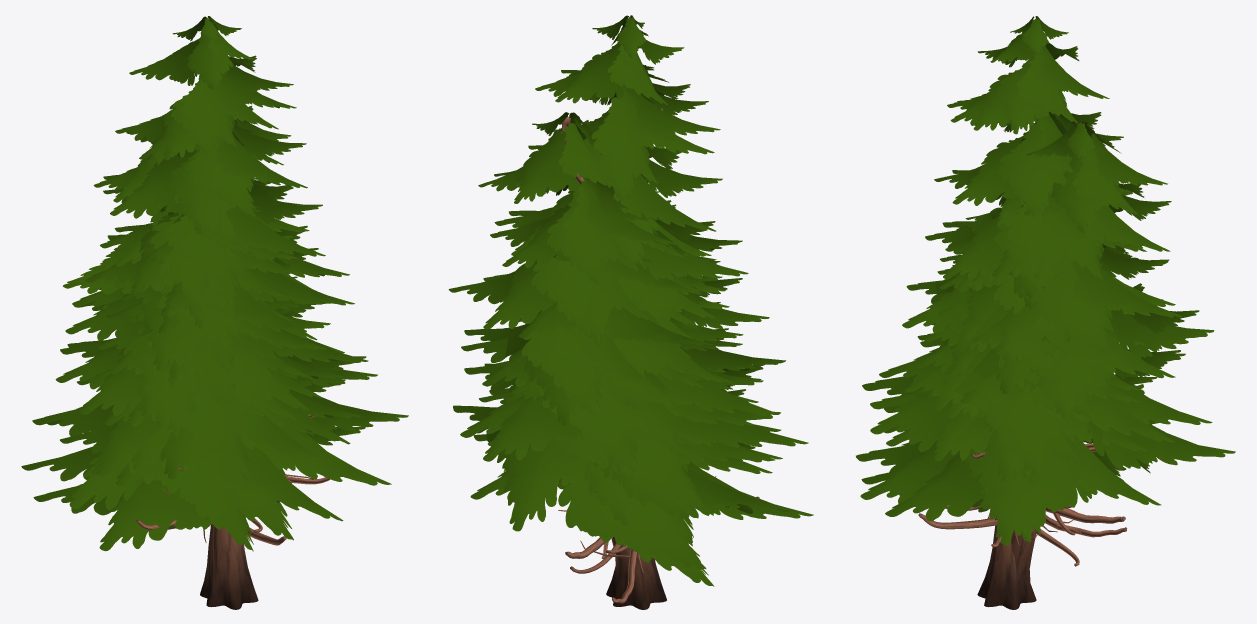
The model's file is megakit-pines.glb.
3 views of the same model, side by side, from view 1: azimuth 30°, elevation 25°; view 2: azimuth 150°, elevation 25°; view 3: azimuth 270°, elevation 25° (orthographic). The views are drawn at different scales.
Visible parts, largest first — view 1: Pine_4, Pine_5, Pine_2, Pine_1, Pine_3; view 2: Pine_5, Pine_4, Pine_2, Pine_1, Pine_3; view 3: Pine_4, Pine_5, Pine_2, Pine_1, Pine_3.
Boxes of the visible parts, x1=… form: Pine_4: x1=32, y1=16, x2=368, y2=609; Pine_5: x1=21, y1=90, x2=408, y2=609; Pine_2: x1=33, y1=206, x2=365, y2=551; Pine_1: x1=60, y1=205, x2=345, y2=503; Pine_3: x1=77, y1=212, x2=326, y2=532; Pine_5: x1=448, y1=112, x2=791, y2=609; Pine_4: x1=460, y1=15, x2=808, y2=609; Pine_2: x1=470, y1=179, x2=813, y2=586; Pine_1: x1=488, y1=191, x2=782, y2=558; Pine_3: x1=505, y1=225, x2=758, y2=573; Pine_4: x1=862, y1=16, x2=1185, y2=609; Pine_5: x1=861, y1=119, x2=1235, y2=609; Pine_2: x1=856, y1=203, x2=1161, y2=542; Pine_1: x1=884, y1=198, x2=1157, y2=535; Pine_3: x1=905, y1=246, x2=1145, y2=566.
Bounding box in the file's own units: 6.42 × 10.24 × 6.31.
2 materials, 2 textured.
